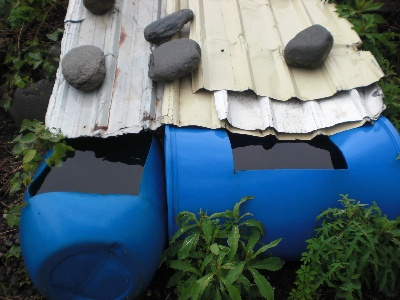bucket: (165, 111, 400, 260), (18, 138, 170, 299)
